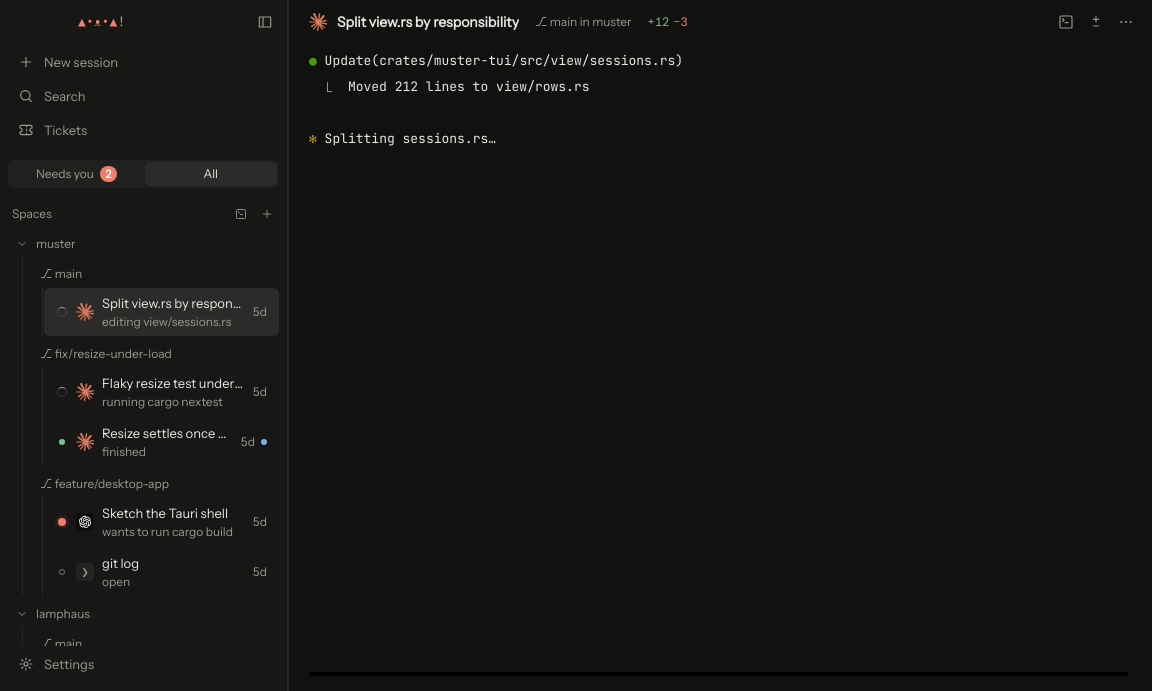
ARC-24 the sidebar › opens Needs you beside the list of everything, and an entry there opens its session in the list
Click the button "Needs you 2" at (76, 174), box [10,162,142,186]
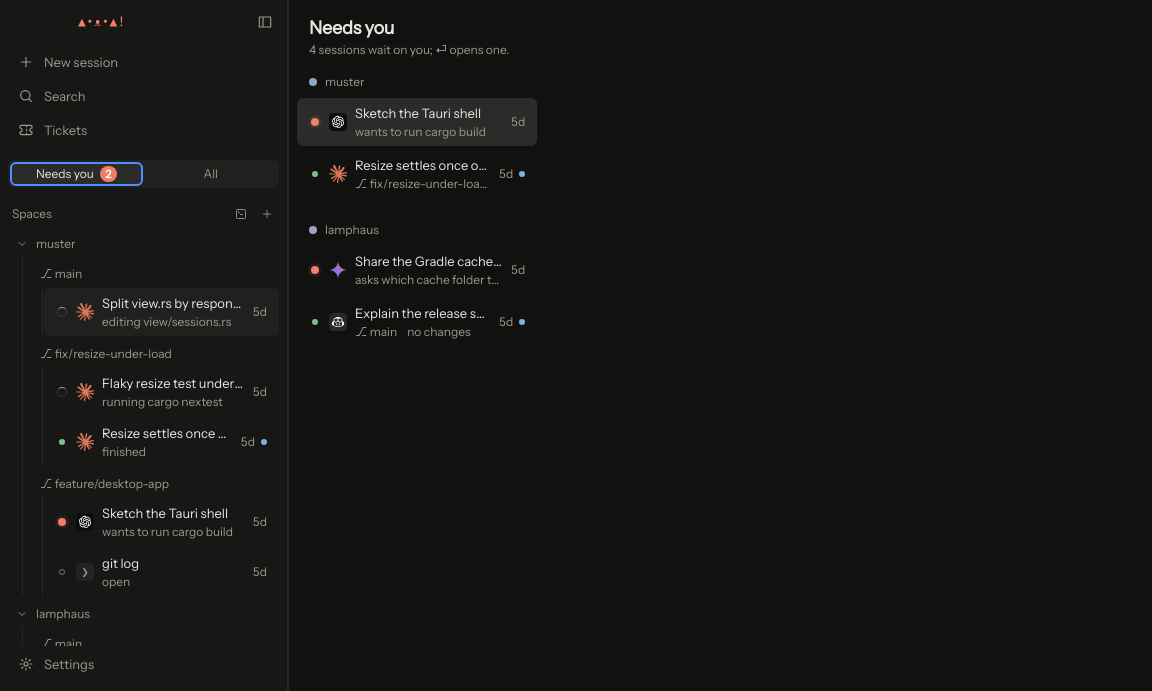
Expected: the element named "Projects and sessions" is shown, [0,228,287,646]
Expected: the heading "Needs you" is shown, [309,17,394,39]
Click the option "Sketch the Tauri shell" at (417, 122), box [297,98,537,146]
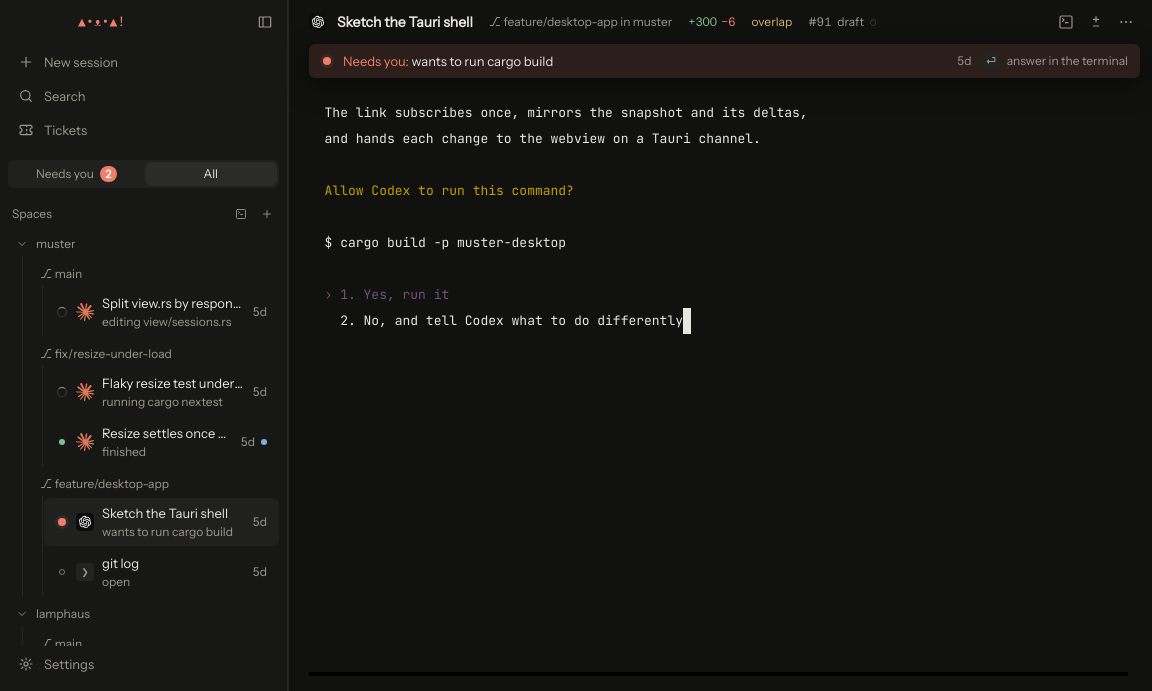
Expected: the heading "Sketch the Tauri shell" is shown, [337,12,473,32]
